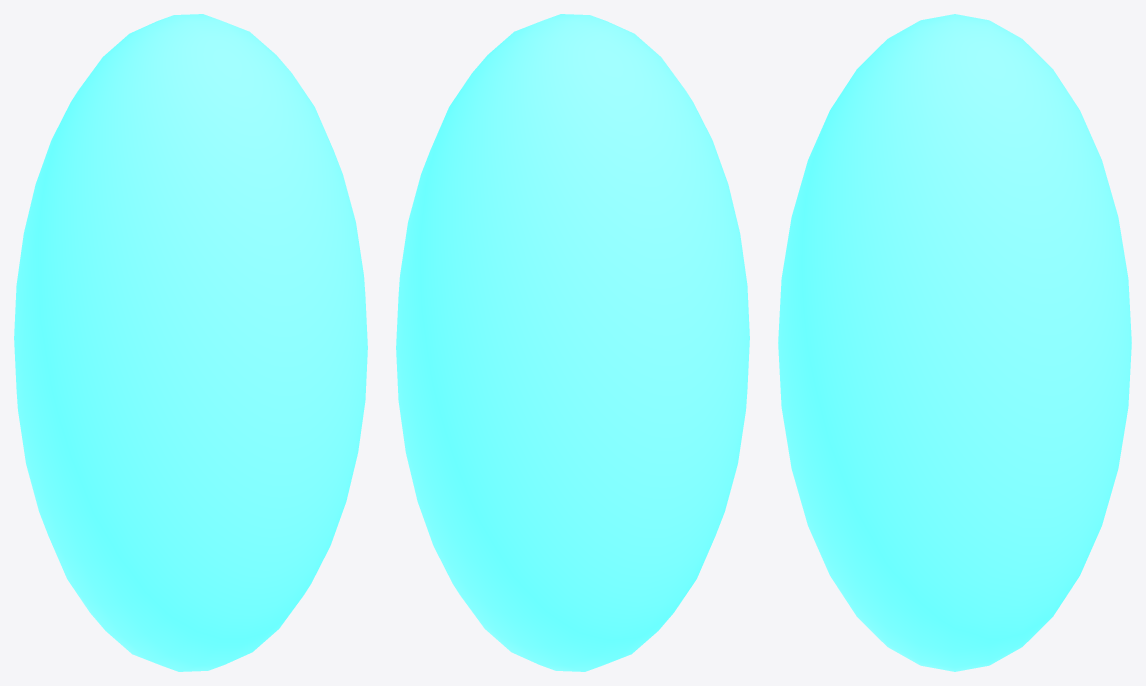
File: EnemyAttack3 1.fbx
3 renders of one model, left to right at view 1: azimuth 30°, elevation 25°; view 2: azimuth 150°, elevation 25°; view 3: azimuth 270°, elevation 25°, orthographic.
Visible parts, largest first — view 1: Sphere; view 2: Sphere; view 3: Sphere.
Part boxes in pixels (bbox=[...]): Sphere: bbox=[14, 14, 367, 671]; Sphere: bbox=[396, 14, 749, 671]; Sphere: bbox=[778, 14, 1131, 671].
Bounding box in the file's own units: 100 × 200 × 100.
